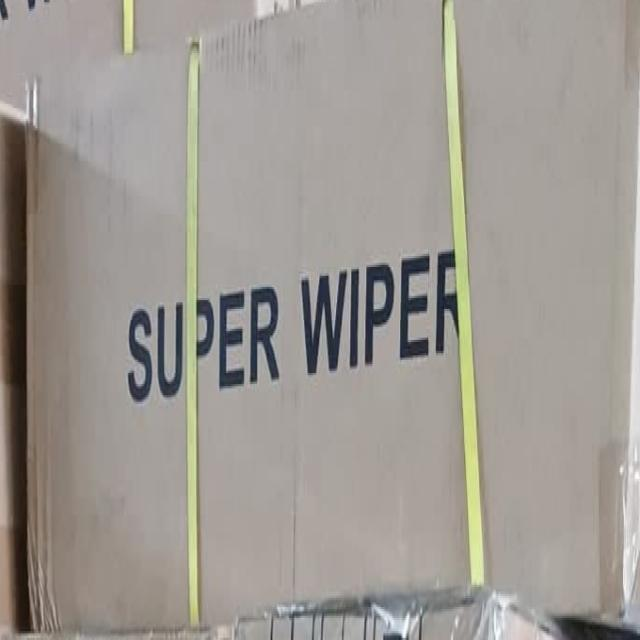carton_box: (10, 0, 640, 640)
package_damage: (20, 534, 64, 639)
